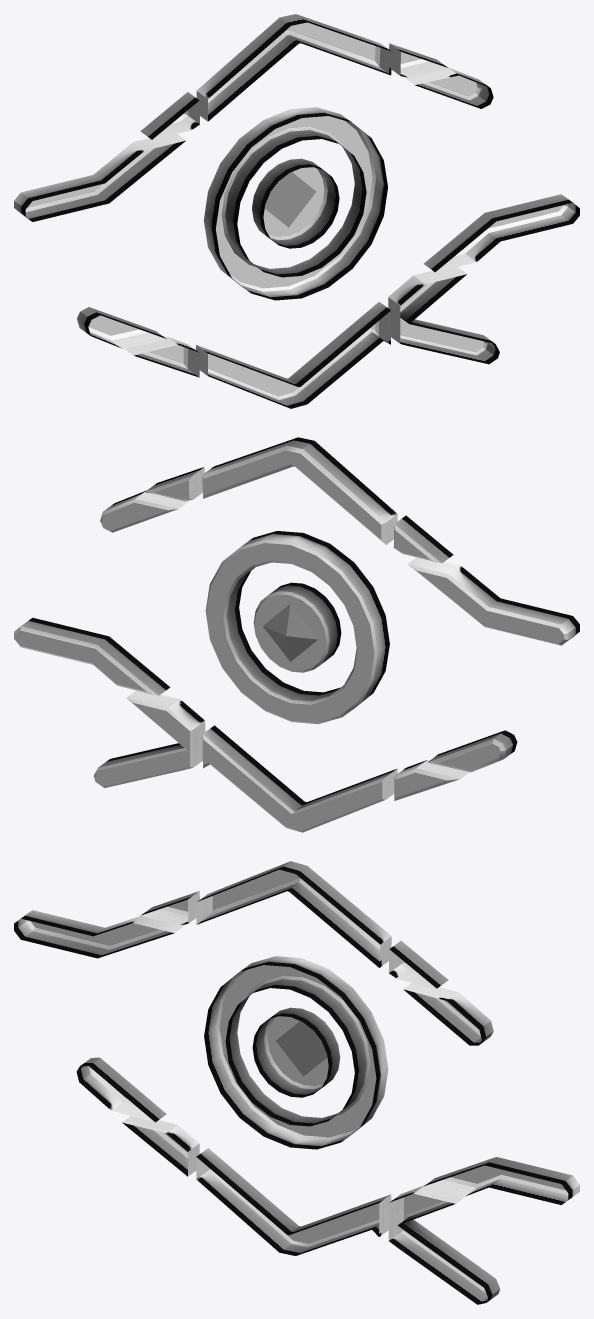
File: eyeLightSource.fbx
The picture shows the model from 3 angles, top to bottom: view 1: azimuth 30°, elevation 25°; view 2: azimuth 150°, elevation 25°; view 3: azimuth 330°, elevation 25°; orthographic projection.
Visible parts, largest first — view 1: eyeLightSource; view 2: eyeLightSource; view 3: eyeLightSource.
Boxes of the visible parts, bbox=[...] form: eyeLightSource: bbox=[14, 14, 579, 408]; eyeLightSource: bbox=[14, 437, 579, 832]; eyeLightSource: bbox=[14, 861, 579, 1304].
Bounding box in the file's own units: 130 × 7.17 × 86.64.
